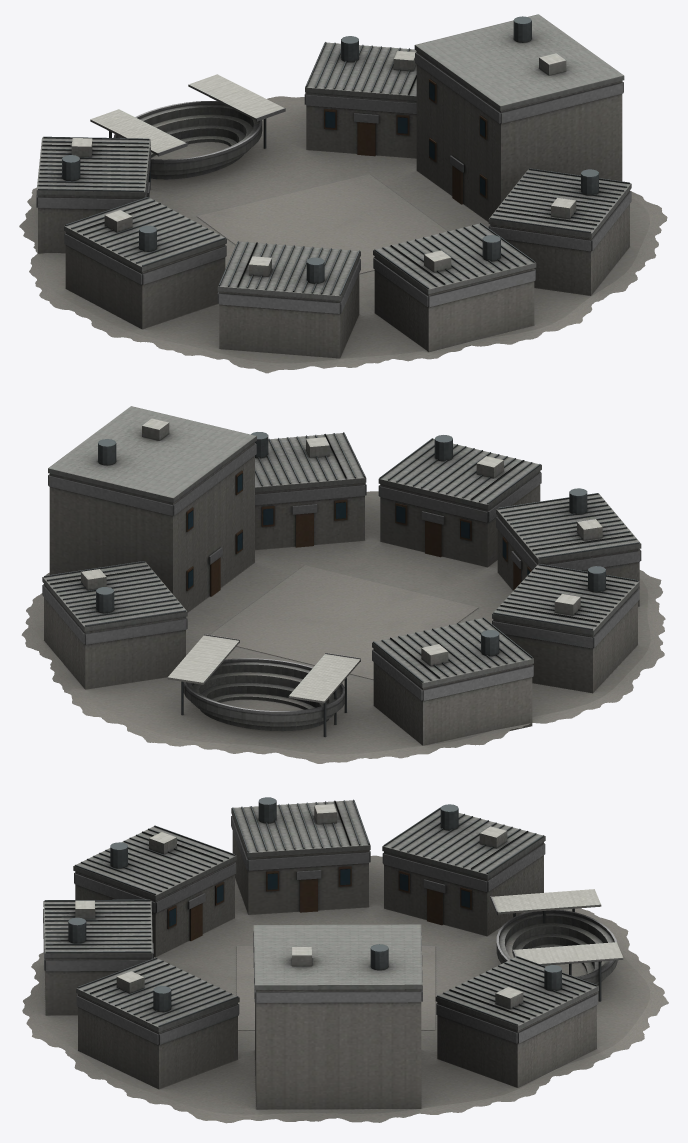
Rendered from modern-town-small-b-americas.glb.
The picture shows the model from 3 angles, top to bottom: view 1: azimuth 30°, elevation 25°; view 2: azimuth 150°, elevation 25°; view 3: azimuth 270°, elevation 25°; orthographic projection.
Parts seen in each view (by area): view 1: LOD0; view 2: LOD0; view 3: LOD0.
Boxes of the visible parts, x1,y1,x2,y2 form: LOD0: (19, 14, 667, 373); LOD0: (21, 406, 665, 763); LOD0: (22, 797, 668, 1123).
Size of what is drawn, in the model's own units: 3.96 by 0.988 by 4.
Materials: 3 (3 with a texture image).
